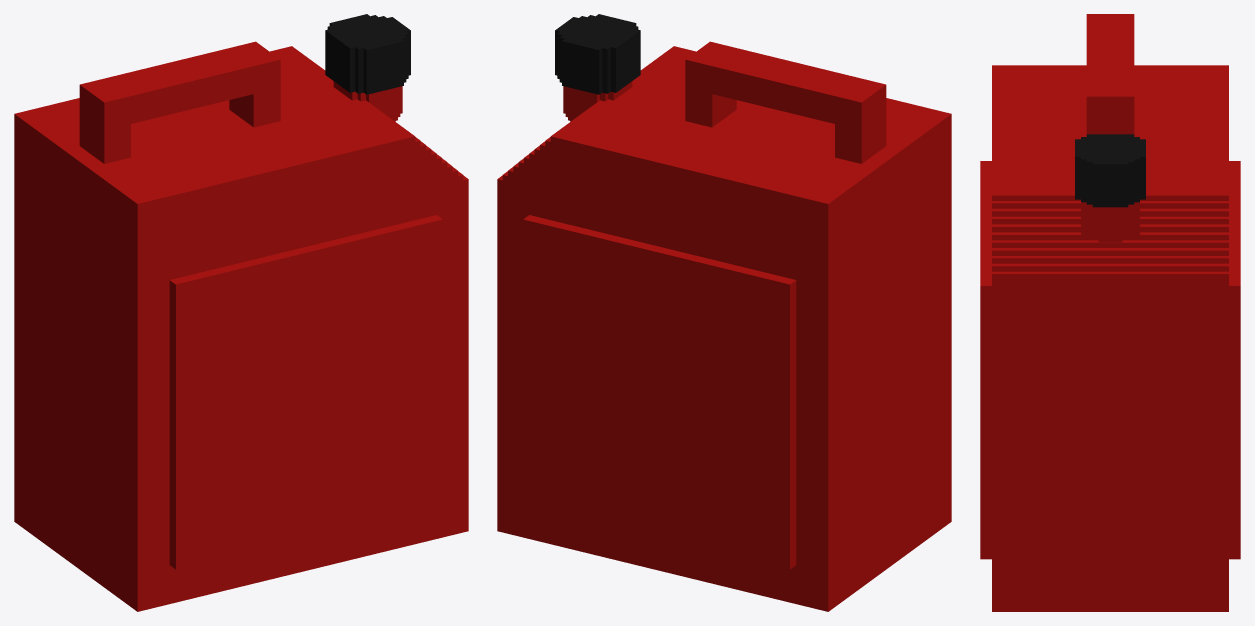
File: jerrycan.glb
3 views of the same model, side by side, from view 1: azimuth 30°, elevation 25°; view 2: azimuth 150°, elevation 25°; view 3: azimuth 270°, elevation 25° (orthographic). The views are drawn at different scales.
Visible parts, largest first — view 1: jerrycan:compound; view 2: jerrycan:compound; view 3: jerrycan:compound.
Part boxes in pixels (x1,y1,x2,y2): jerrycan:compound: (14, 14, 468, 611); jerrycan:compound: (497, 14, 951, 611); jerrycan:compound: (980, 14, 1240, 611).
Size of the model in its own units: 0.248 by 0.336 by 0.176.
